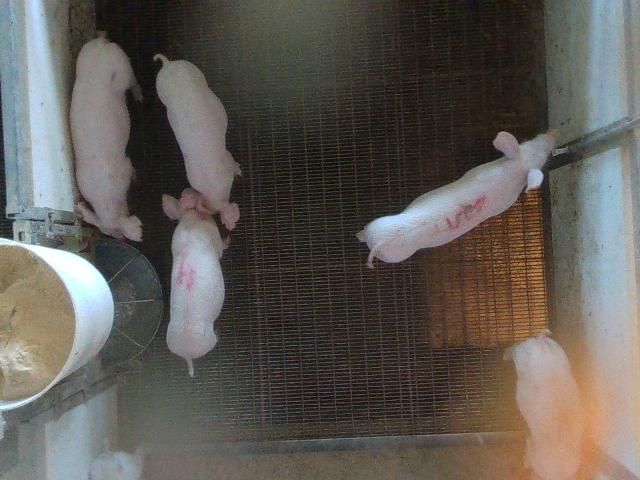pig-1: (505, 330, 582, 479)
pig-3: (356, 130, 559, 267)
pig-4: (162, 195, 225, 376)
